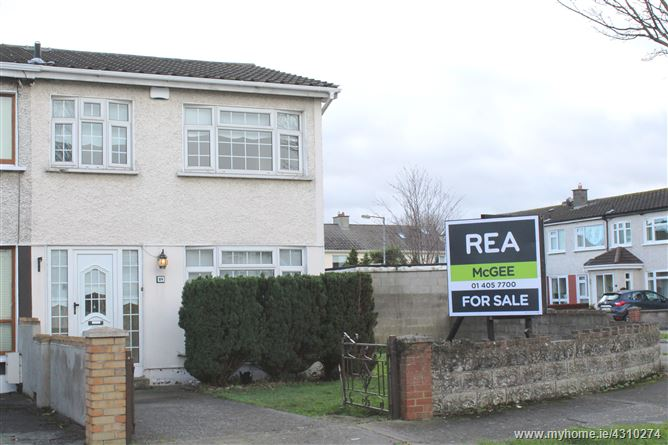property sign: (429, 203, 551, 326)
